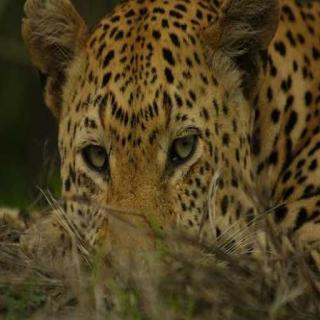Leopard: (46, 0, 319, 320)
